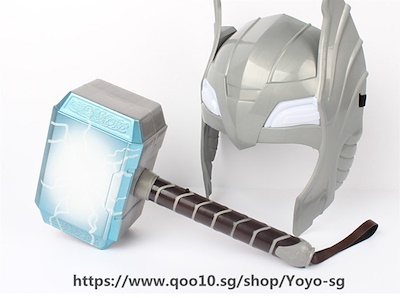THOR Hammer: (36, 79, 316, 268)
